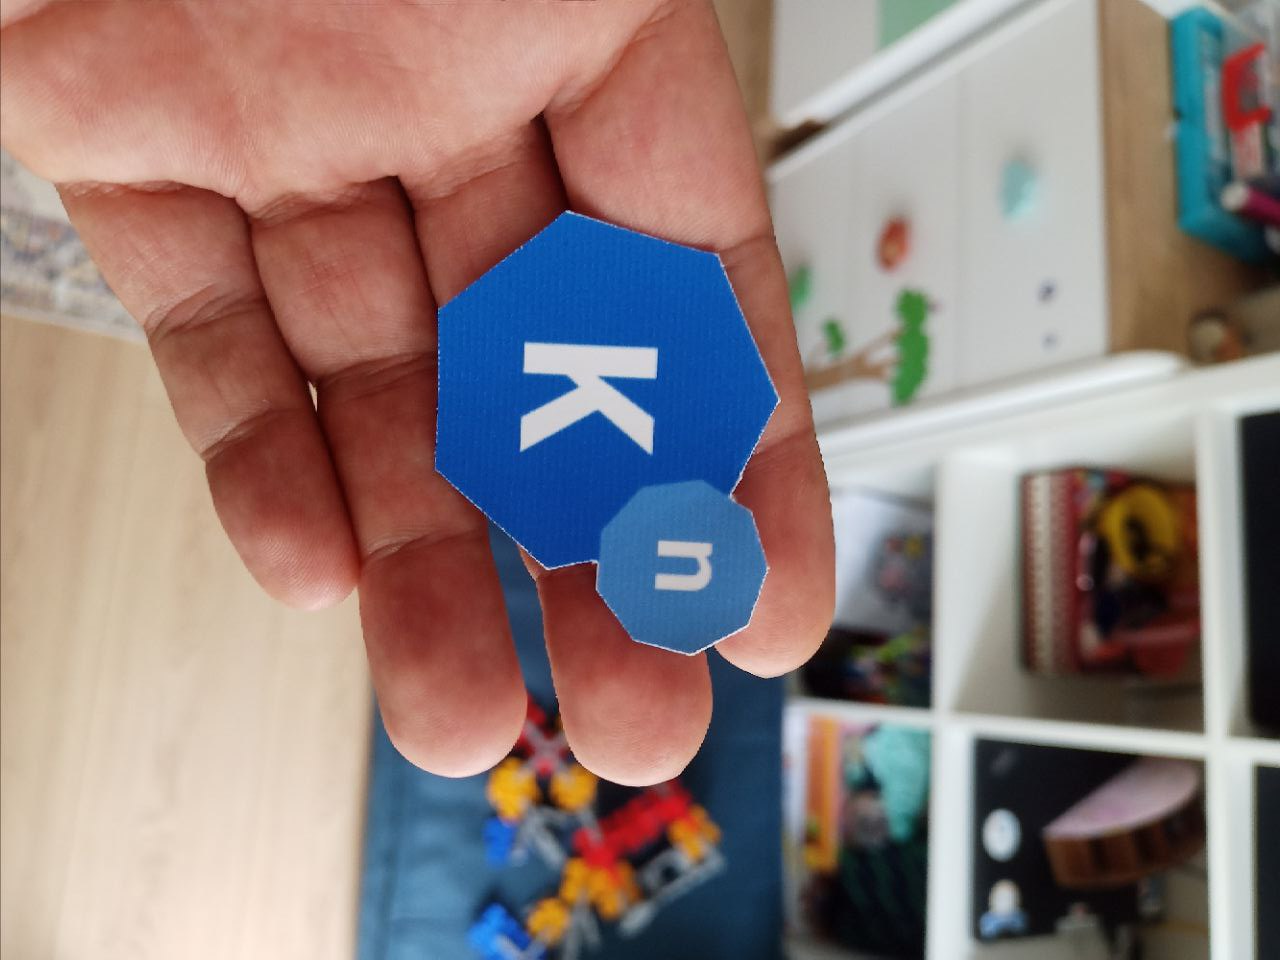knative: (440, 209, 782, 656)
